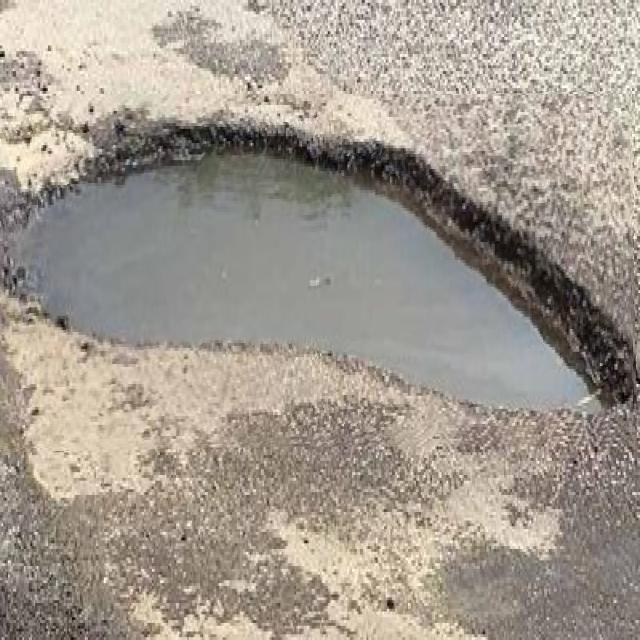Pothole: (0, 94, 635, 449)
